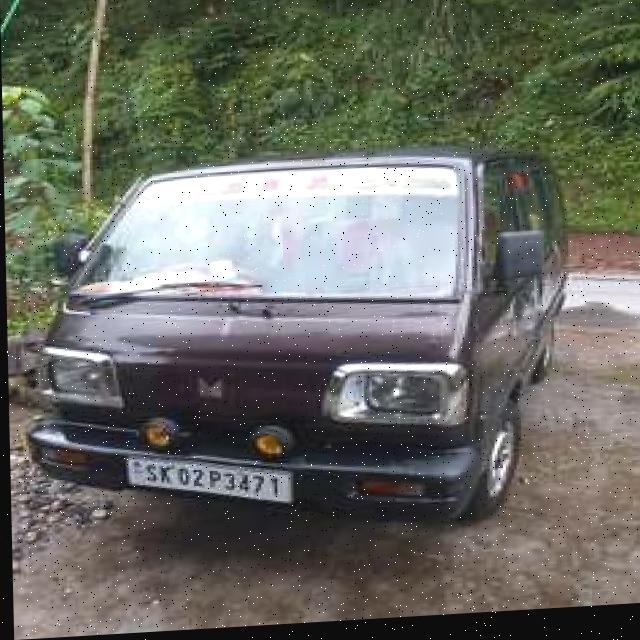plate: (118, 444, 296, 518)
